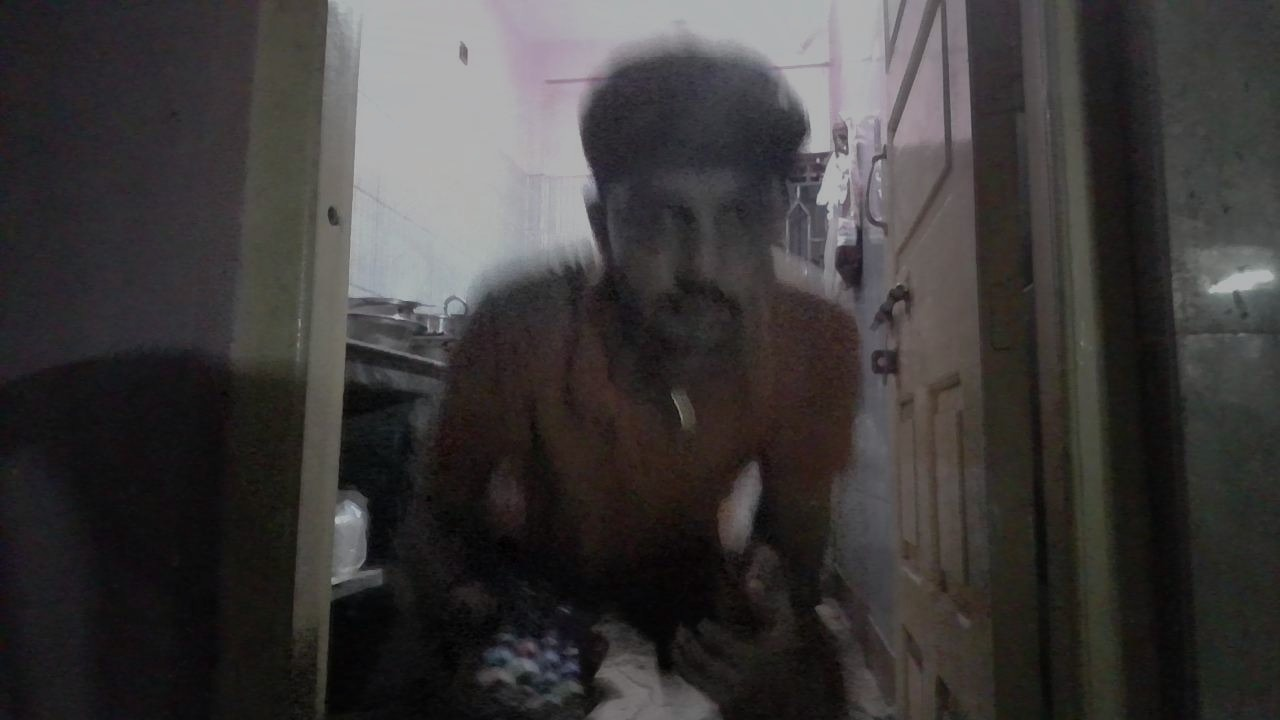red_box: (600, 415, 696, 500), (705, 391, 817, 454), (792, 413, 850, 492)
